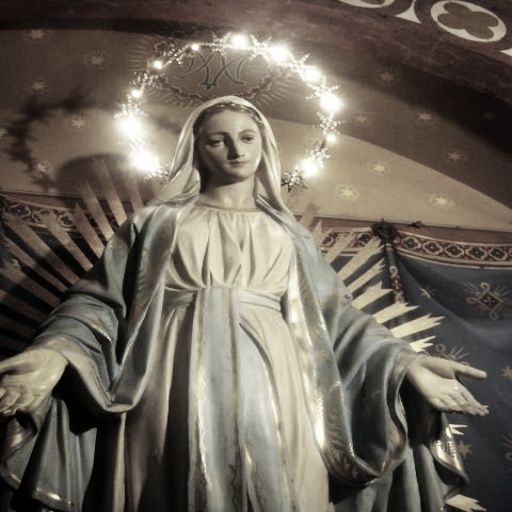hand: (387, 343, 489, 428), (0, 348, 67, 419)
